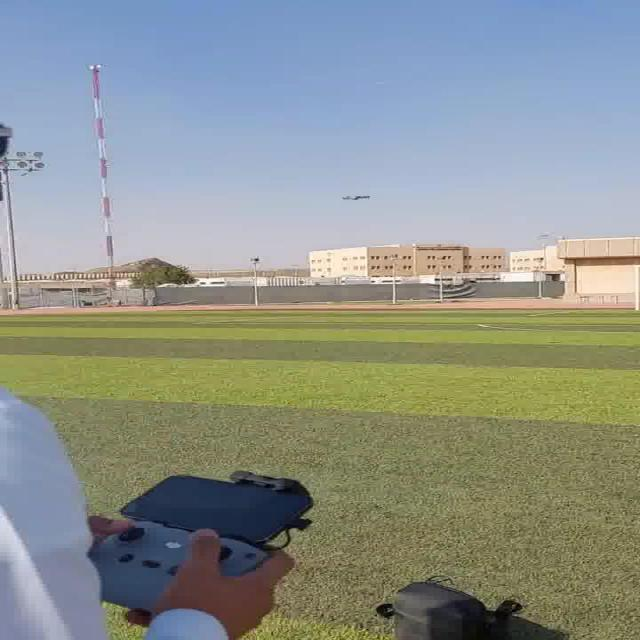drone: (327, 190, 381, 202)
